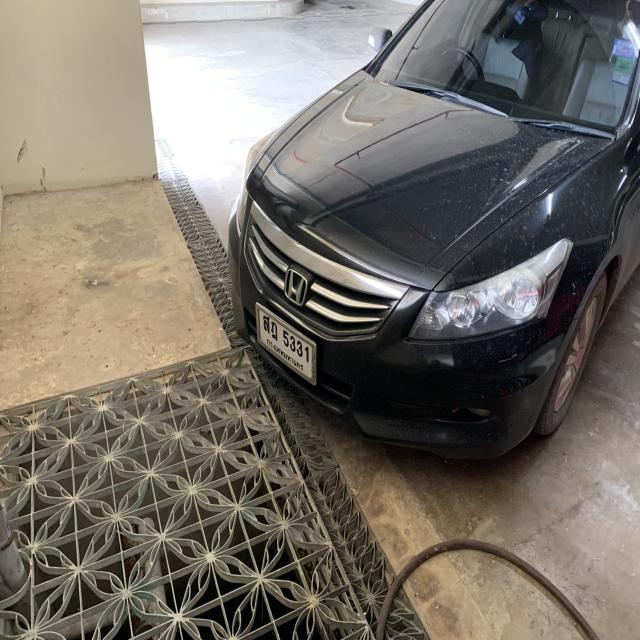license_plate: (255, 301, 318, 386)
